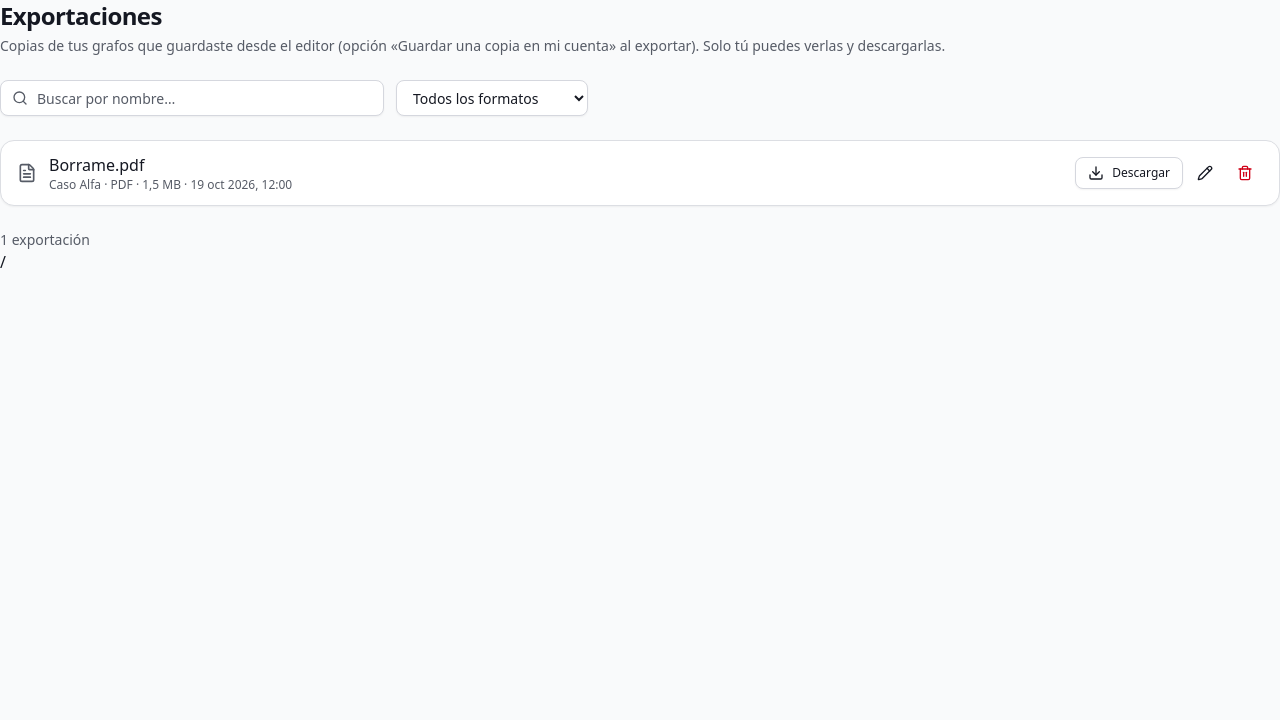
Test case: ExportsPage › eliminar pide confirmación; al confirmar borra y refresca, y cancelar no borra nada
Click the button named "Eliminar Borrame.pdf" at (1245, 173), box [1227,155,1263,191]
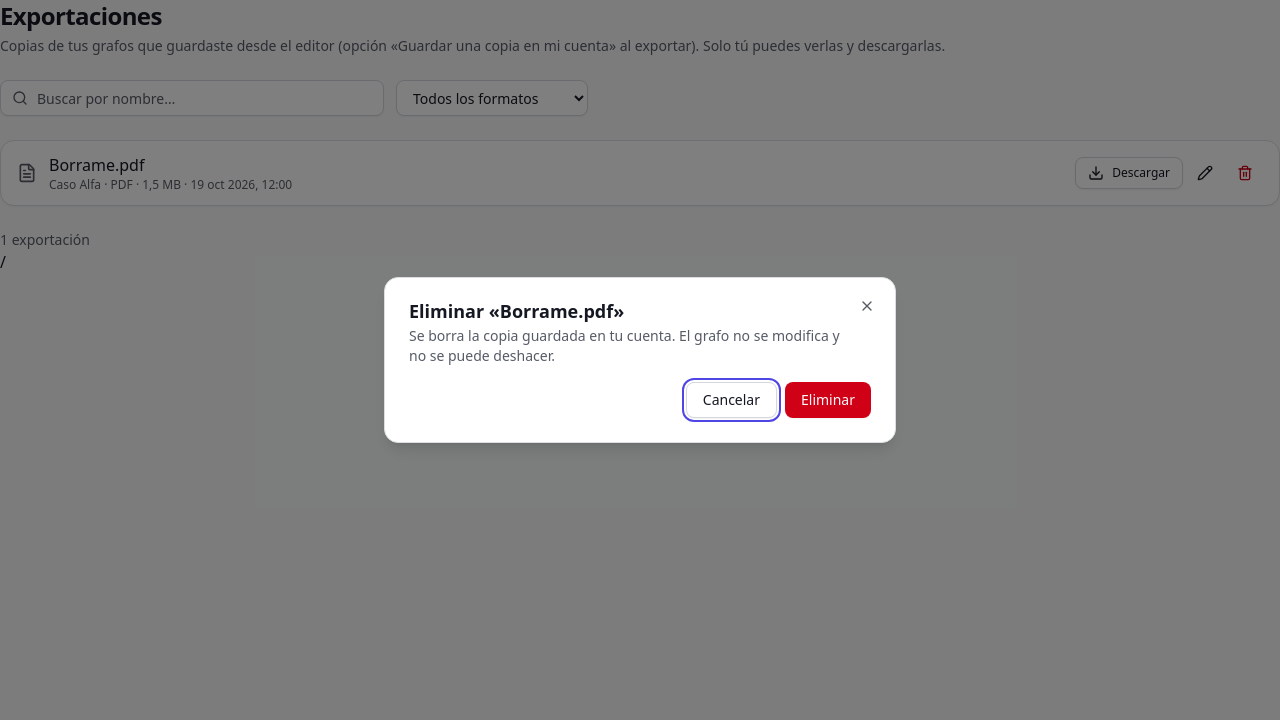
Result: the dialog shows "Eliminar «Borrame.pdf»" at [409,299,624,323]
Click the button "Cancelar" at (731, 400), box [686,382,777,418]
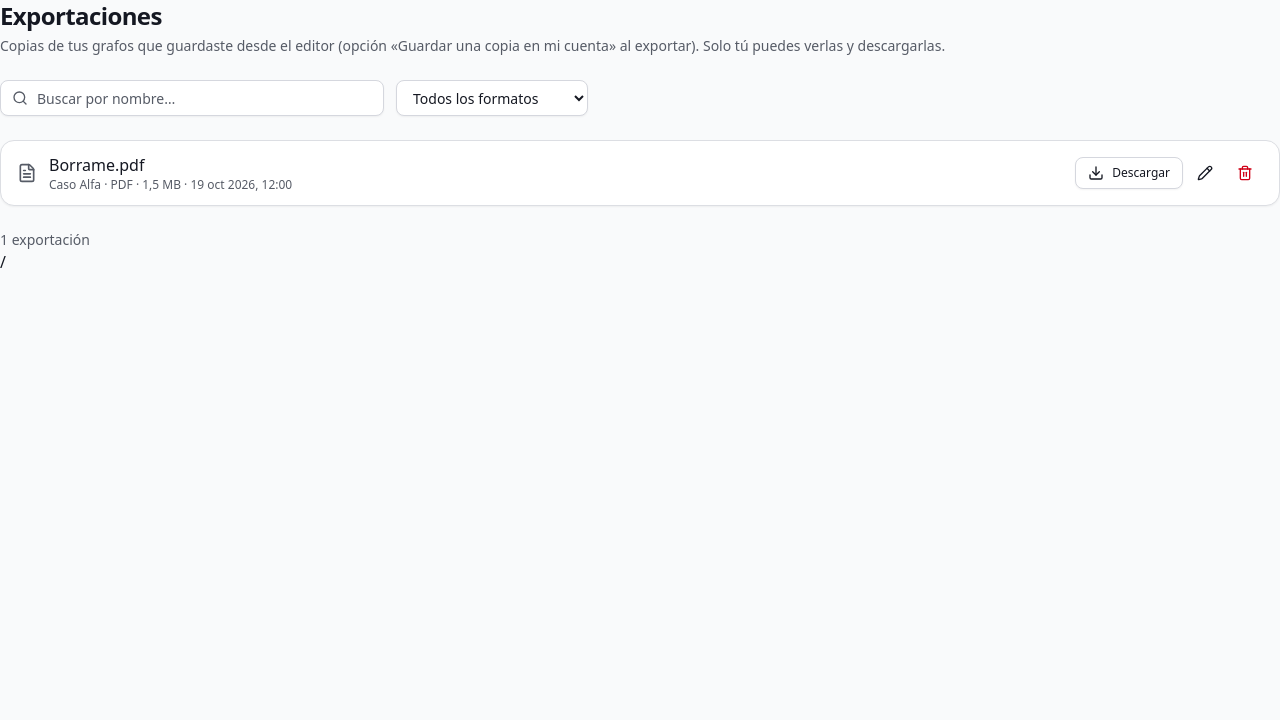
Click the button named "Eliminar Borrame.pdf" at (1245, 173), box [1227,155,1263,191]
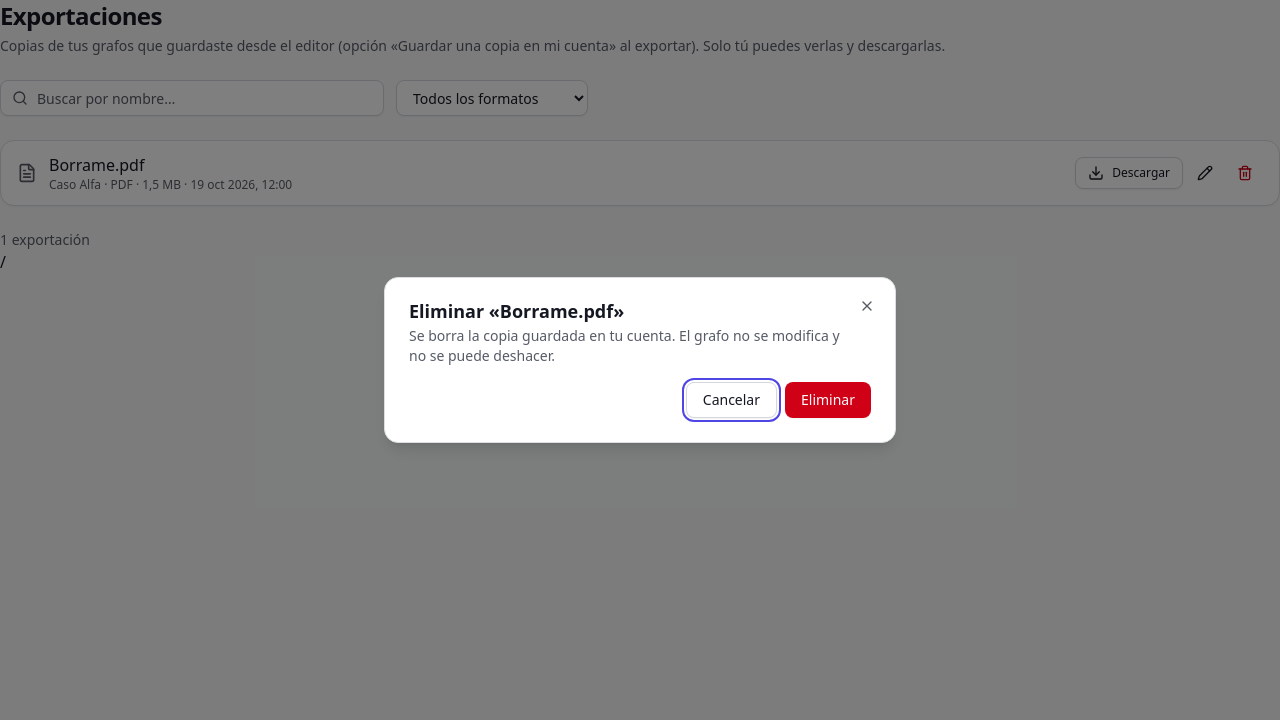
Click the button "Eliminar" at (828, 400), box [785,382,871,418]
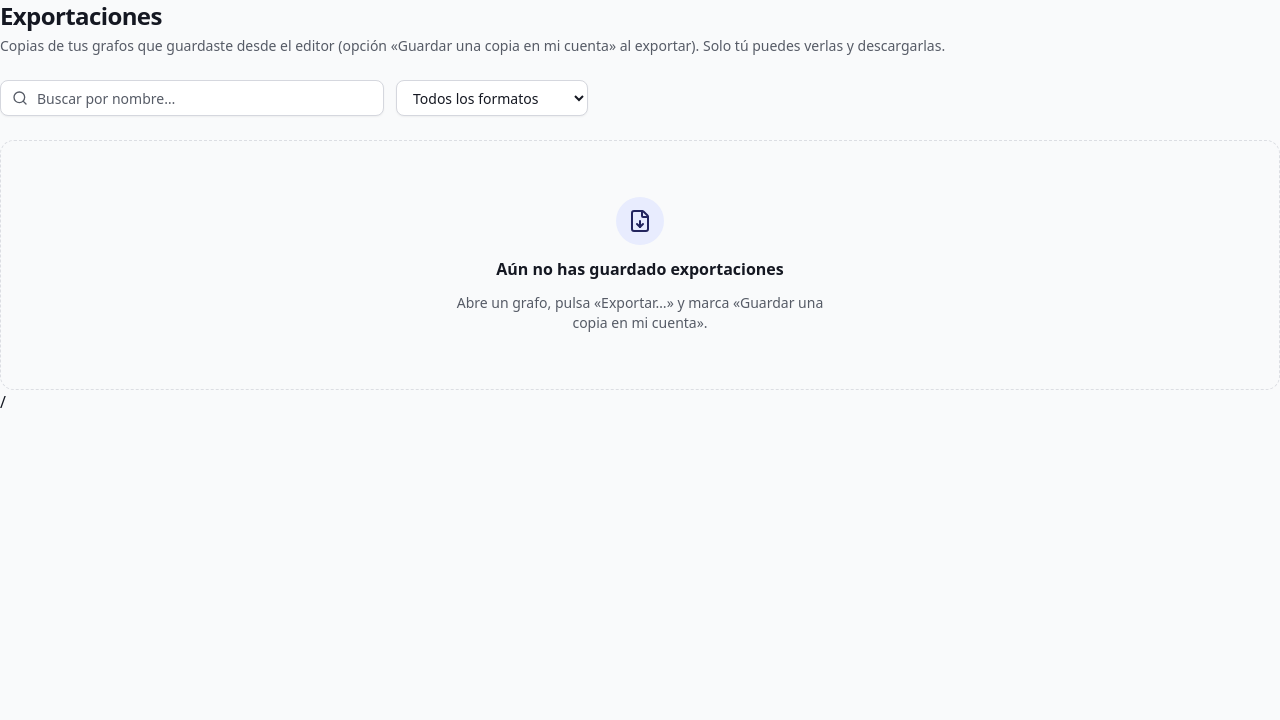
Result: the heading "Aún no has guardado exportaciones" is shown at [496,257,784,281]
